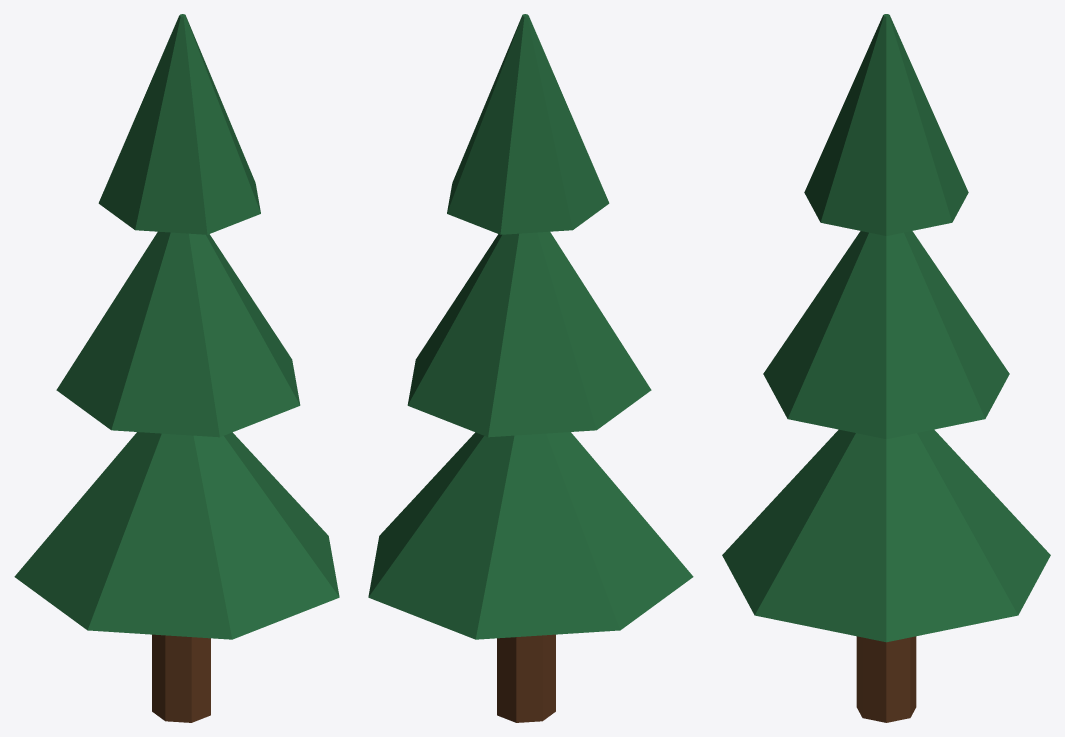
Rendered from pine-default.glb.
The picture shows the model from 3 angles, left to right: view 1: azimuth 30°, elevation 25°; view 2: azimuth 150°, elevation 25°; view 3: azimuth 270°, elevation 25°; orthographic projection.
Parts seen in each view (by area): view 1: foliage-1, foliage-2, foliage-3, trunk; view 2: foliage-1, foliage-2, foliage-3, trunk; view 3: foliage-1, foliage-2, foliage-3, trunk.
Boxes of the visible parts, bbox=[...] form: foliage-1: bbox=[14, 432, 339, 639]; foliage-2: bbox=[56, 231, 300, 437]; foliage-3: bbox=[98, 14, 260, 234]; trunk: bbox=[152, 634, 210, 722]; foliage-1: bbox=[368, 432, 693, 639]; foliage-2: bbox=[407, 231, 651, 437]; foliage-3: bbox=[447, 14, 609, 234]; trunk: bbox=[497, 634, 555, 722]; foliage-1: bbox=[722, 429, 1050, 642]; foliage-2: bbox=[763, 231, 1009, 439]; foliage-3: bbox=[804, 14, 968, 235]; trunk: bbox=[856, 636, 916, 722].
Bounding box in the file's own units: 1.88 × 4.5 × 1.93.
